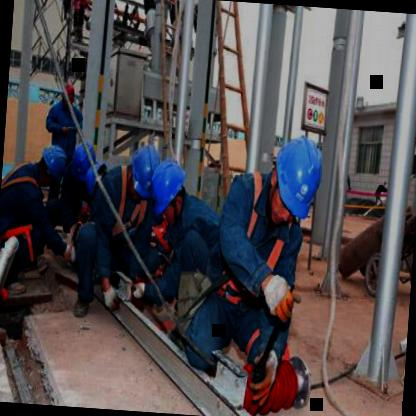helmet: (268, 128, 330, 227), (147, 158, 189, 225), (126, 136, 164, 197), (37, 144, 70, 190), (70, 136, 96, 190), (83, 158, 111, 200), (59, 80, 79, 108)
